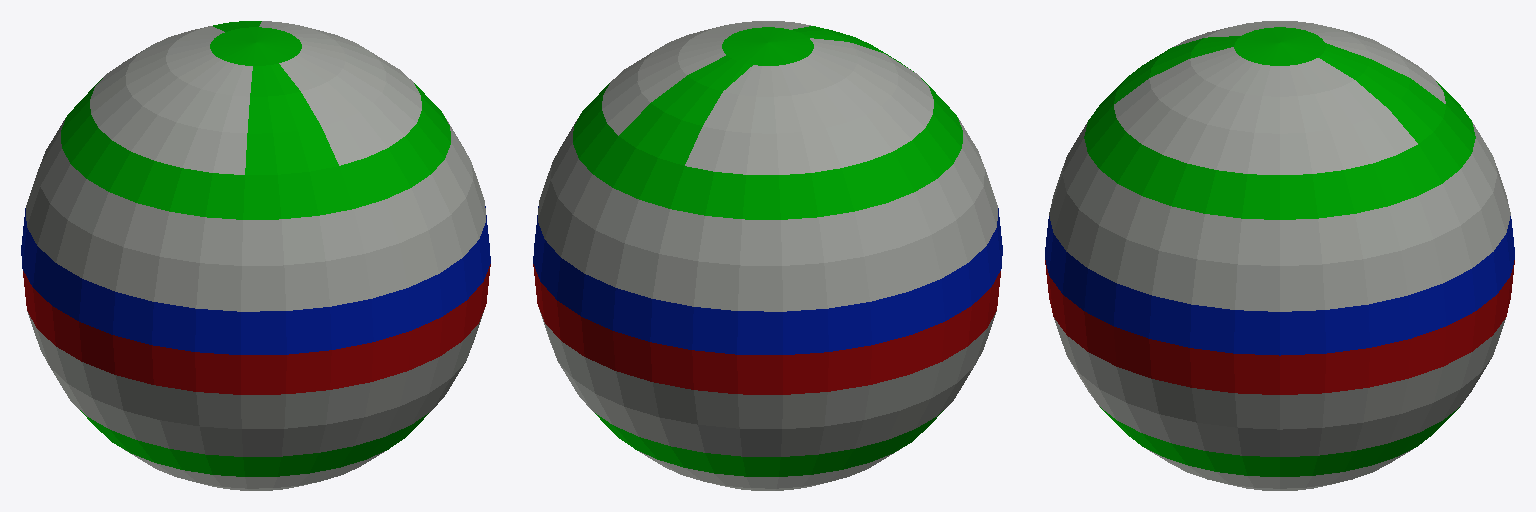
Rendered from sphereboy.obj.
3 renders of one model, left to right at view 1: azimuth 30°, elevation 25°; view 2: azimuth 150°, elevation 25°; view 3: azimuth 270°, elevation 25°, orthographic.
Parts seen in each view (by area): view 1: Sphere; view 2: Sphere; view 3: Sphere.
Part boxes in pixels (left/top/right/bottom): Sphere: left=21, top=21, right=490, bottom=490; Sphere: left=533, top=21, right=1002, bottom=490; Sphere: left=1045, top=21, right=1514, bottom=490.
Size of the model in its own units: 2 by 2 by 2.